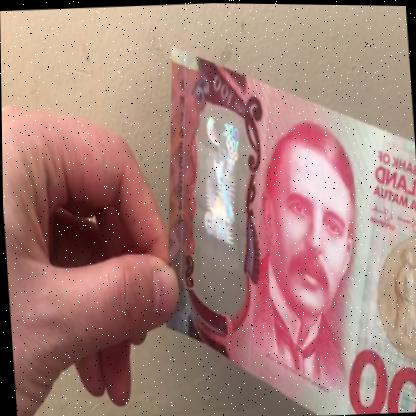100F: (187, 110, 252, 294)
